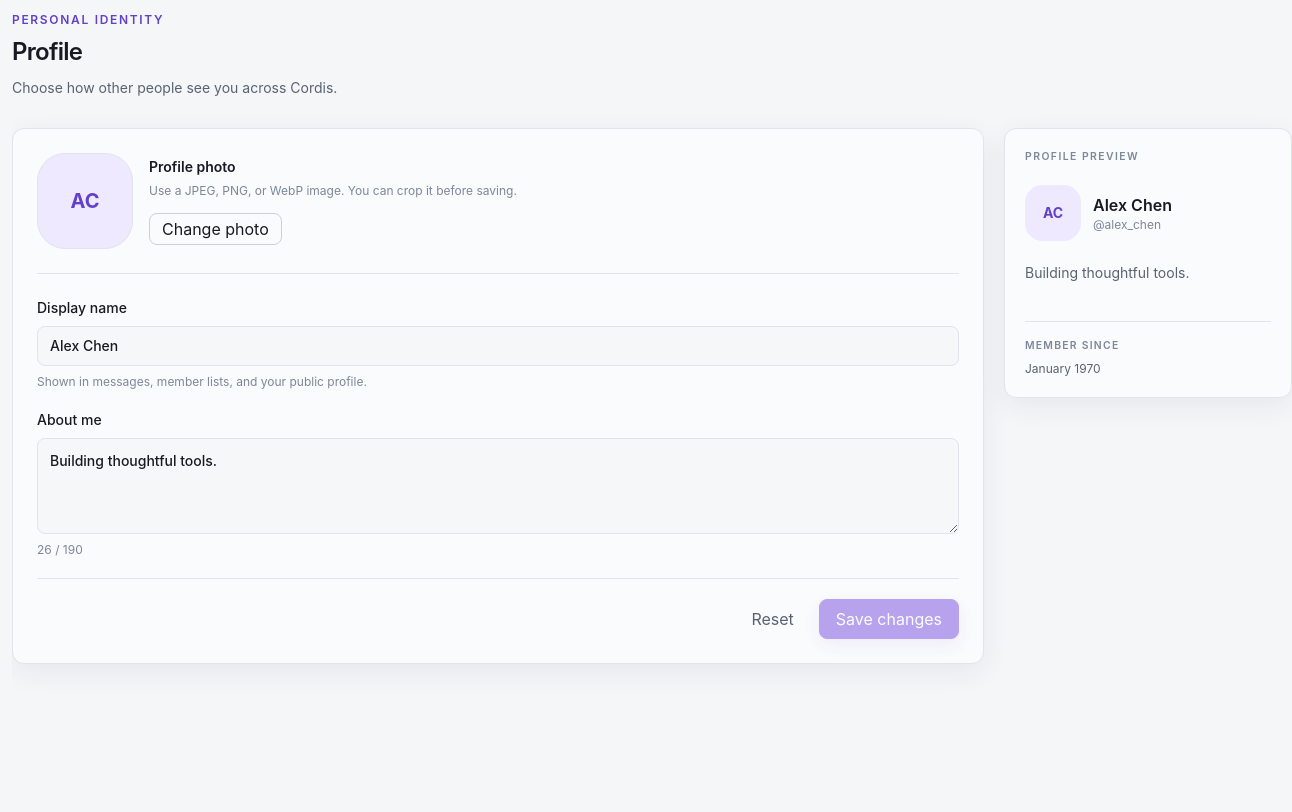
Test: UserProfileSettings › updates profile fields and refreshes the current-user caches
Replace the text in the field labelled "Display name" with "Alex Rivera": (498, 346) [37,326,959,366]
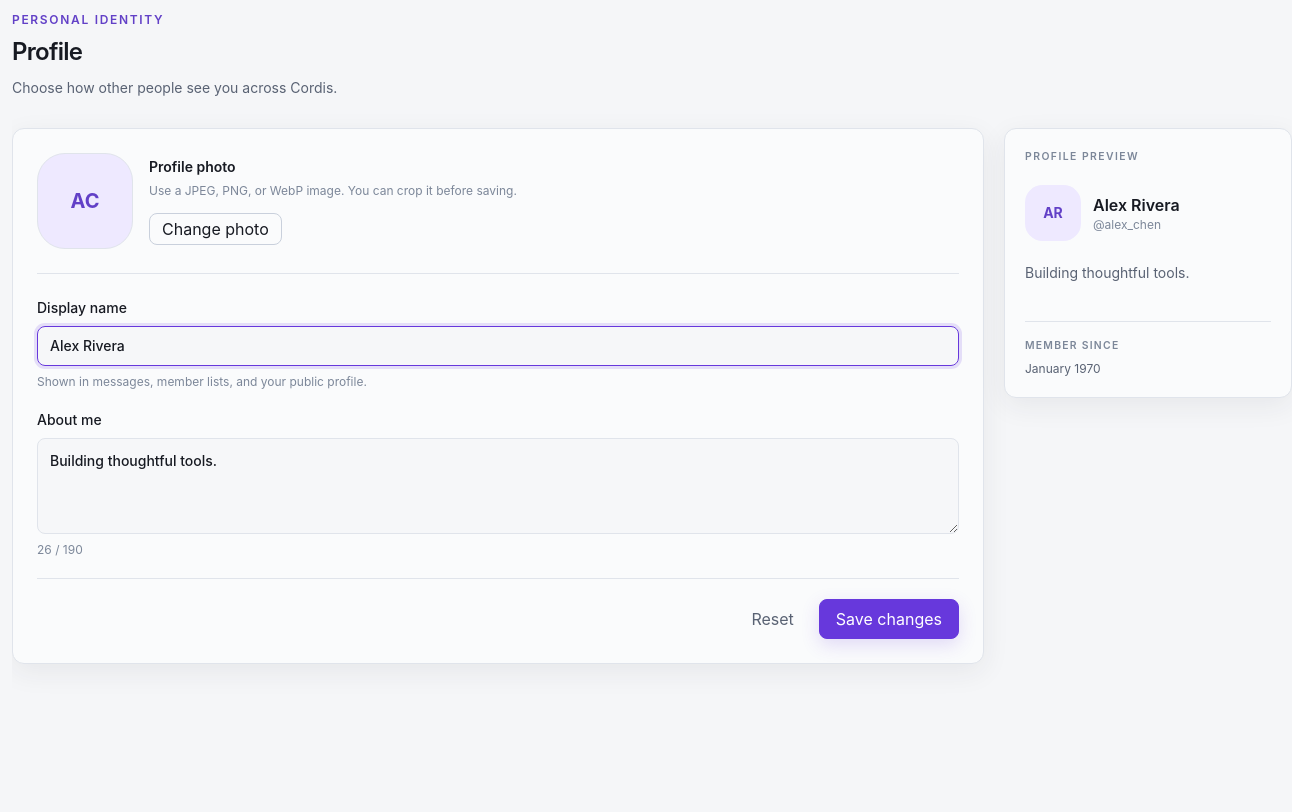
Replace the text in the text box labelled "About me 26 / 190" with "A calmer profile.": (498, 486) [37,438,959,534]
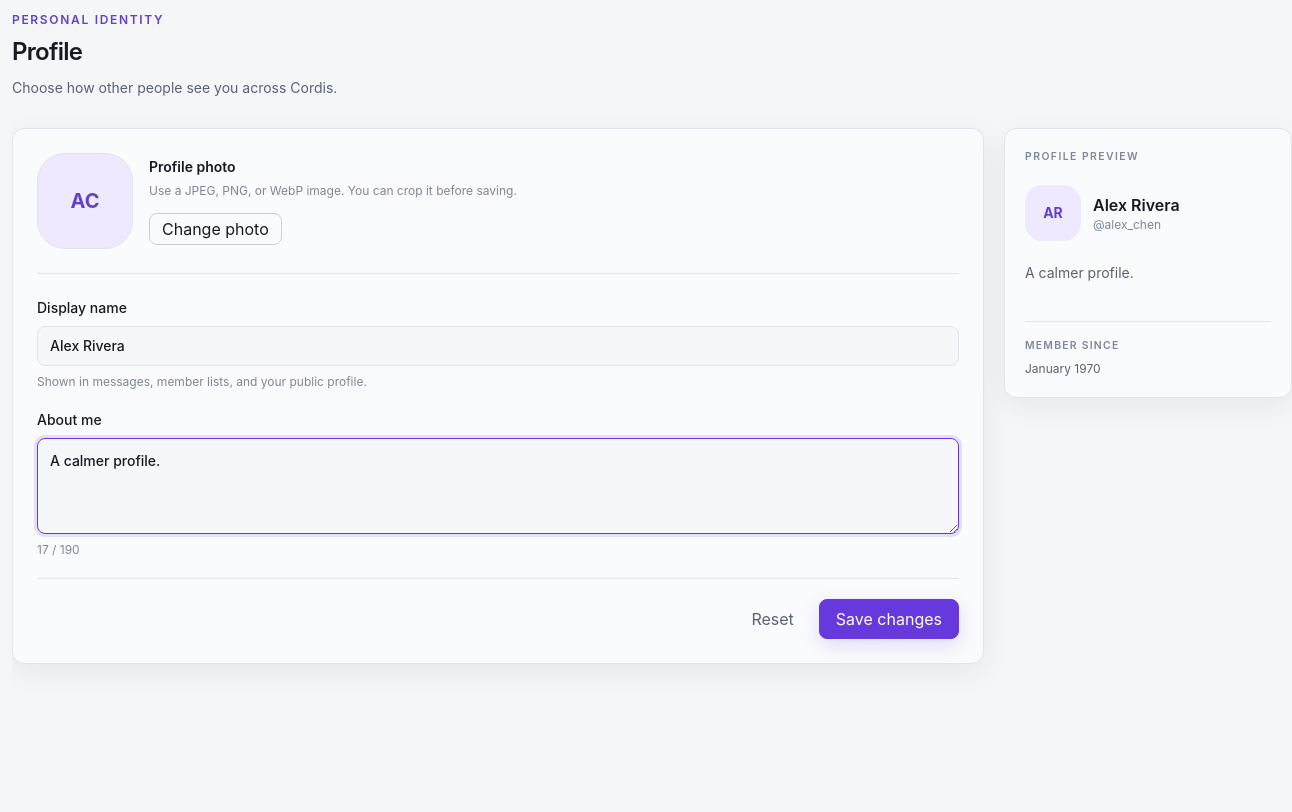
Click the button "Save changes": (889, 619) [819,599,959,639]
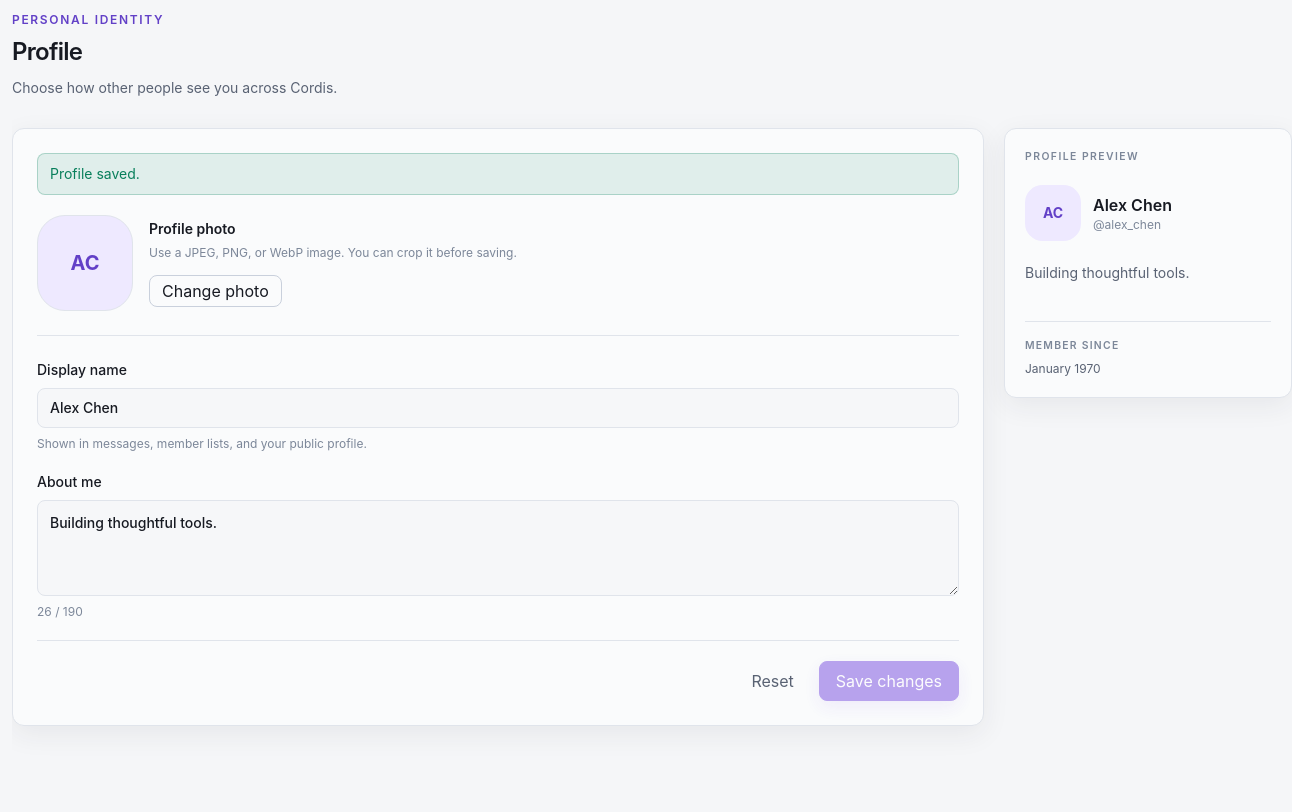
Check: the message reads "Profile saved.", box [50,165,140,182]
